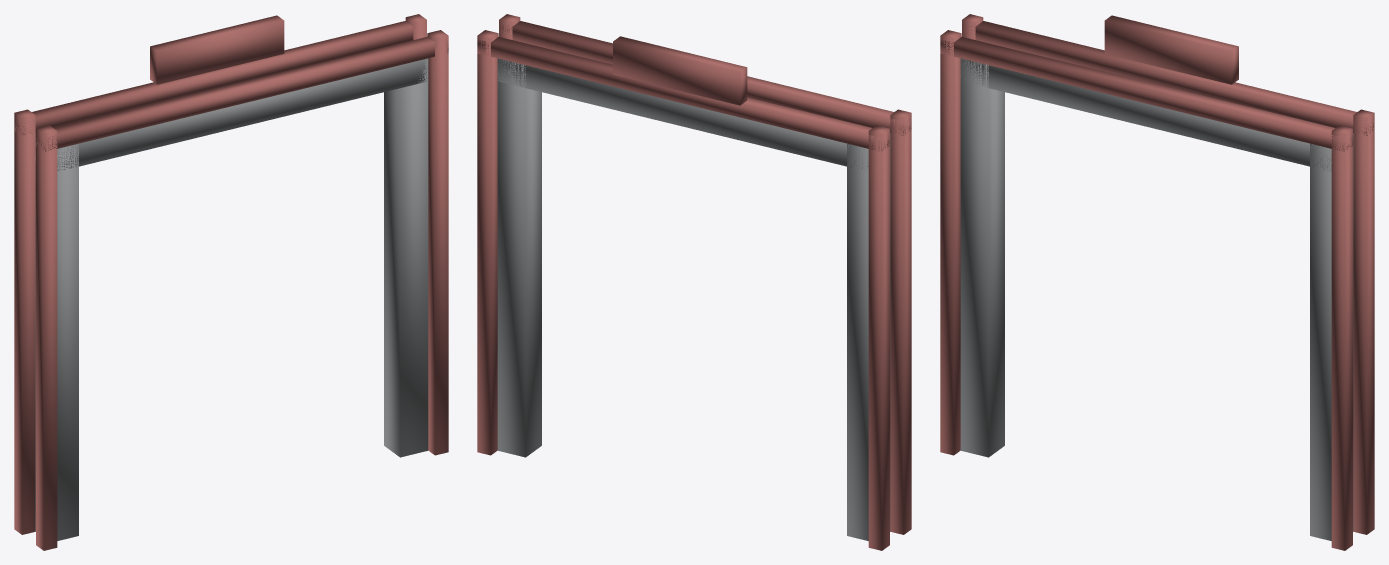
The model's file is doorway_emergency_exit_w182_h200_d16.glb.
3 views of the same model, side by side, from view 1: azimuth 30°, elevation 25°; view 2: azimuth 150°, elevation 25°; view 3: azimuth 330°, elevation 25° (orthographic).
Visible parts, largest first — view 1: world; view 2: world; view 3: world.
Boxes of the visible parts, x1=… form: world: x1=14, y1=14, x2=448, y2=550; world: x1=477, y1=14, x2=911, y2=550; world: x1=940, y1=14, x2=1374, y2=550.
Size of the model in its own units: 2.29 by 2.42 by 0.3203.
